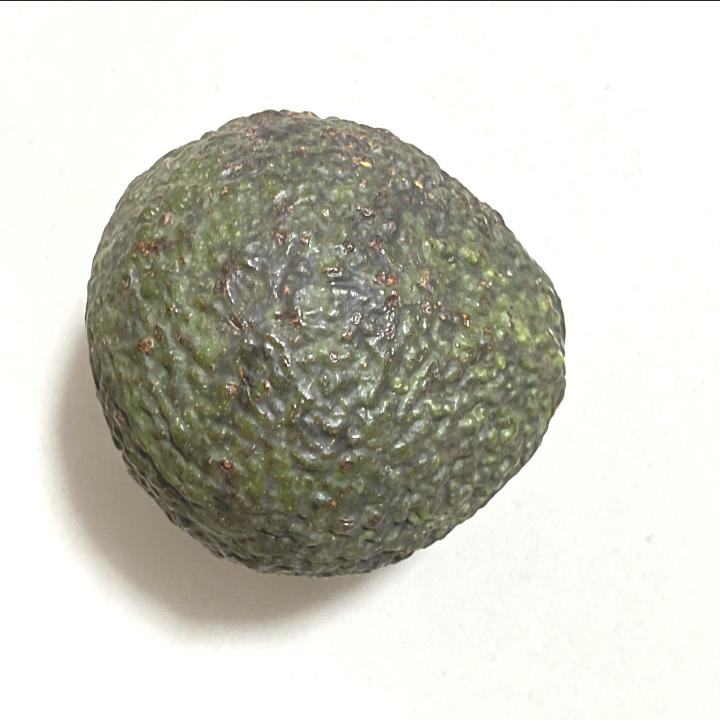Level1: (78, 94, 582, 592)
